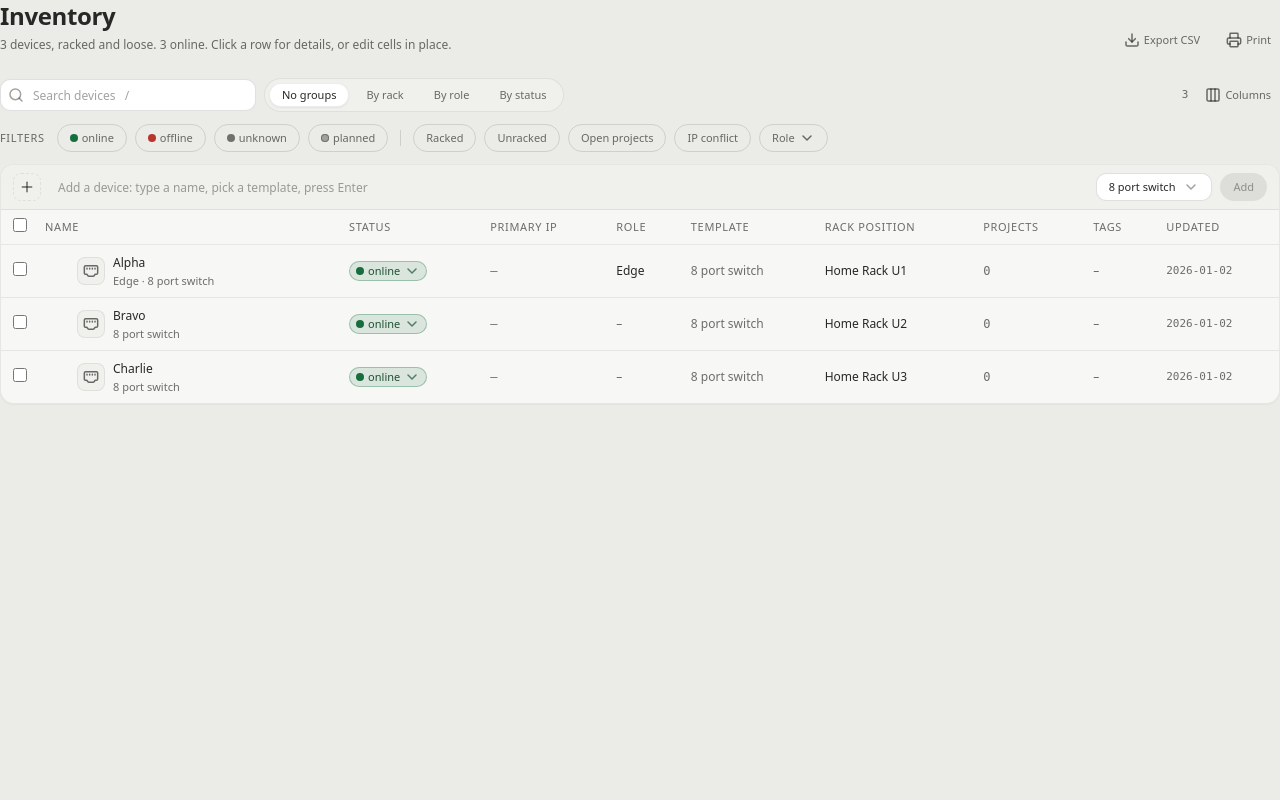
Test case: Inventory rack position › shows the server collision error in the picker and leaves the device where it was
Click the button with aria-label "Rack position of Bravo": (866, 324) [821,310,911,338]
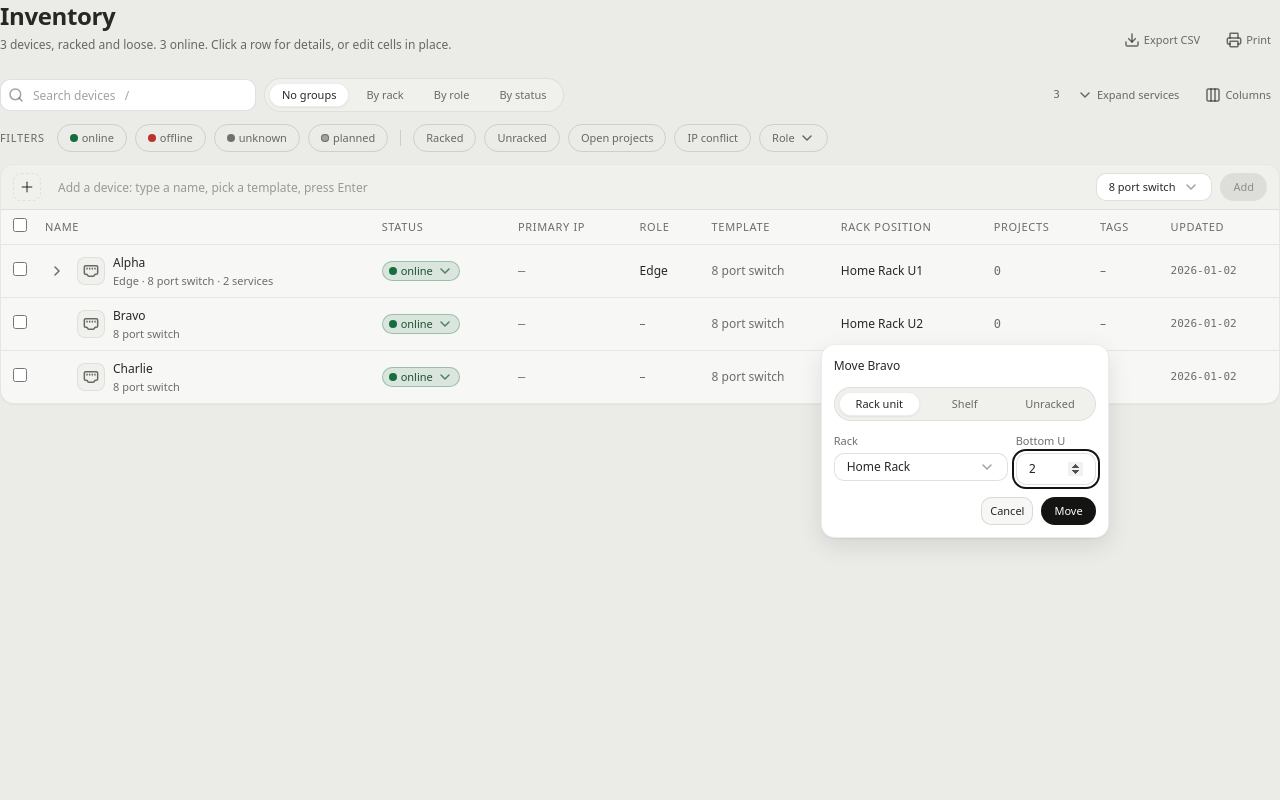
Replace the text in the number field with "1": (1056, 469) [1016,453,1096,485]
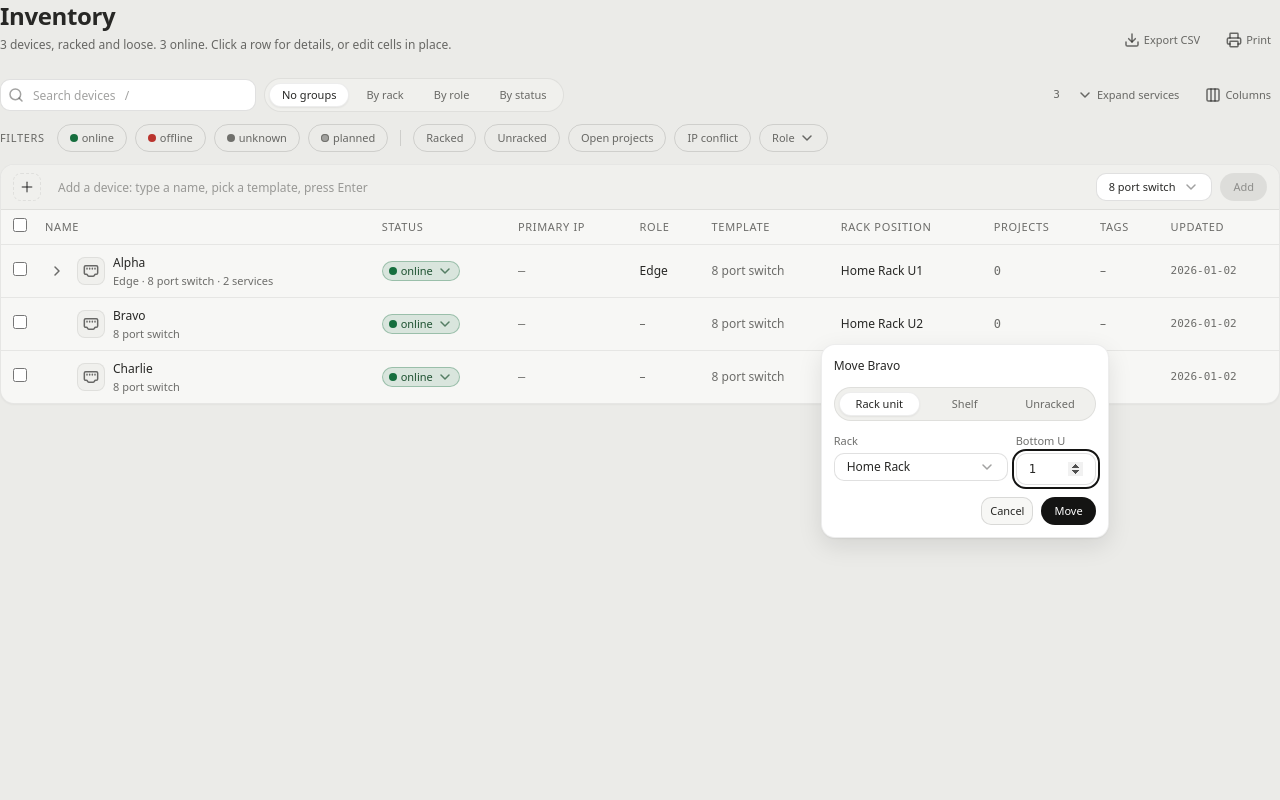
Click the button "Move": (1068, 511) [1041,497,1096,525]
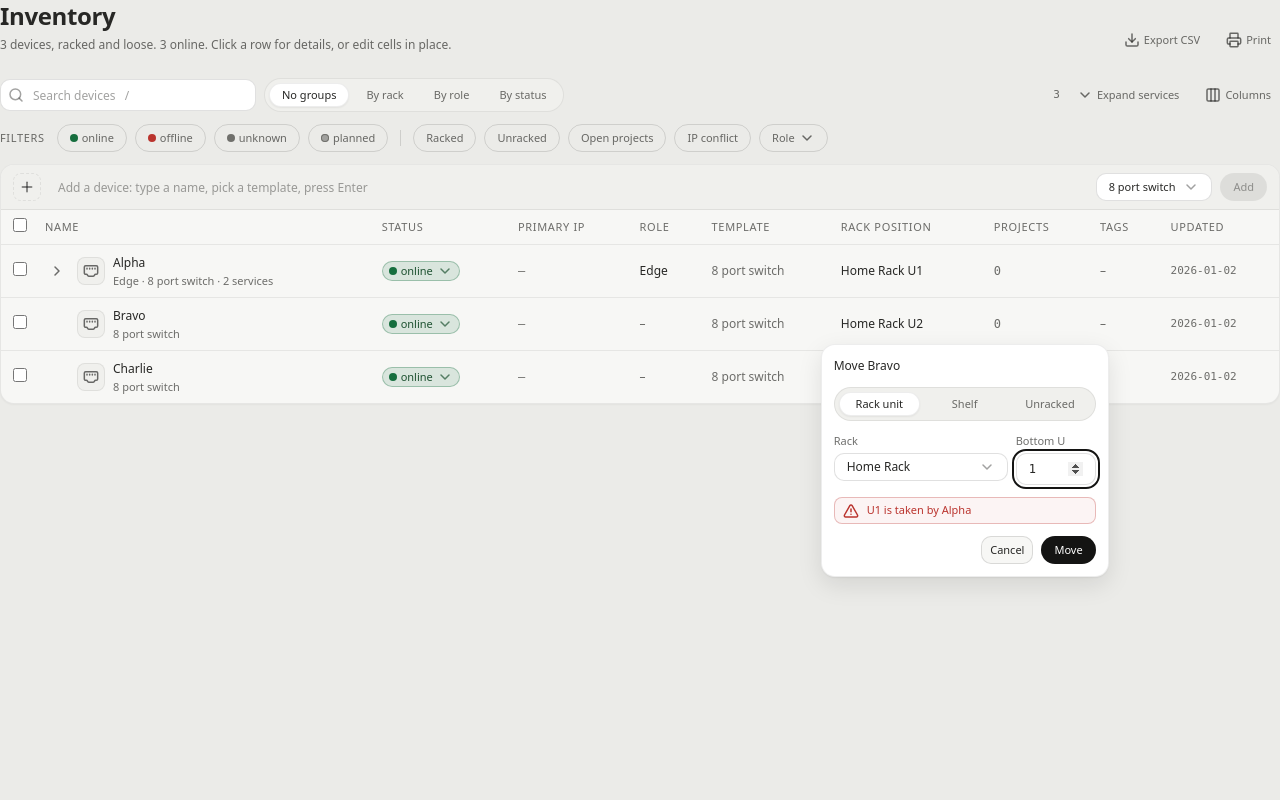
Now the message "U1 is taken by Alpha" is shown, box [834,497,1096,524]
